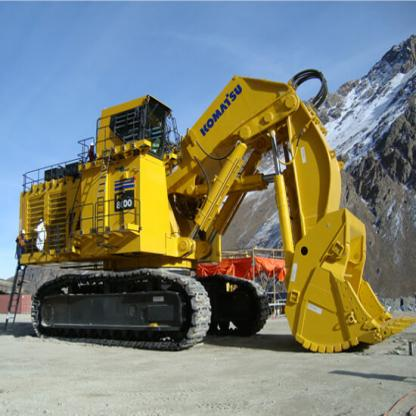excavator: (16, 58, 415, 368)
